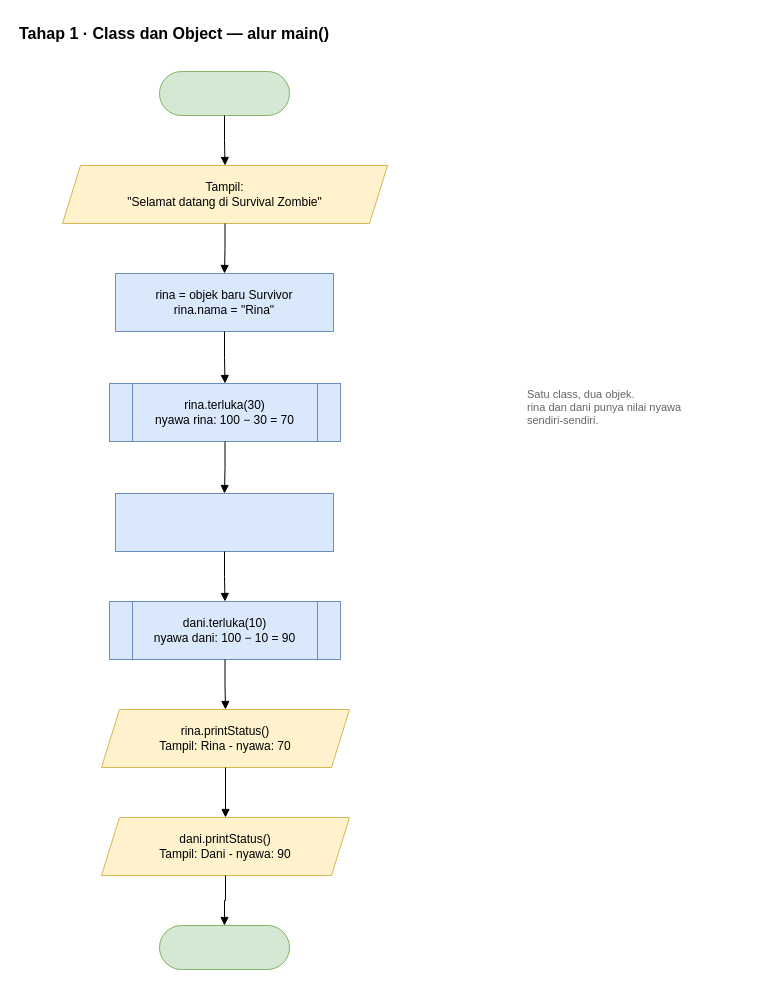
The diagram is 771 pixels wide and 987 high, and some of its shapes have lost their labels. Each missing label, with the box of its shape:
dani = objek baru Survivor dani.nama = "Dani": (114, 492, 334, 552)
Mulai: (158, 70, 290, 116)
Selesai: (158, 924, 290, 970)
